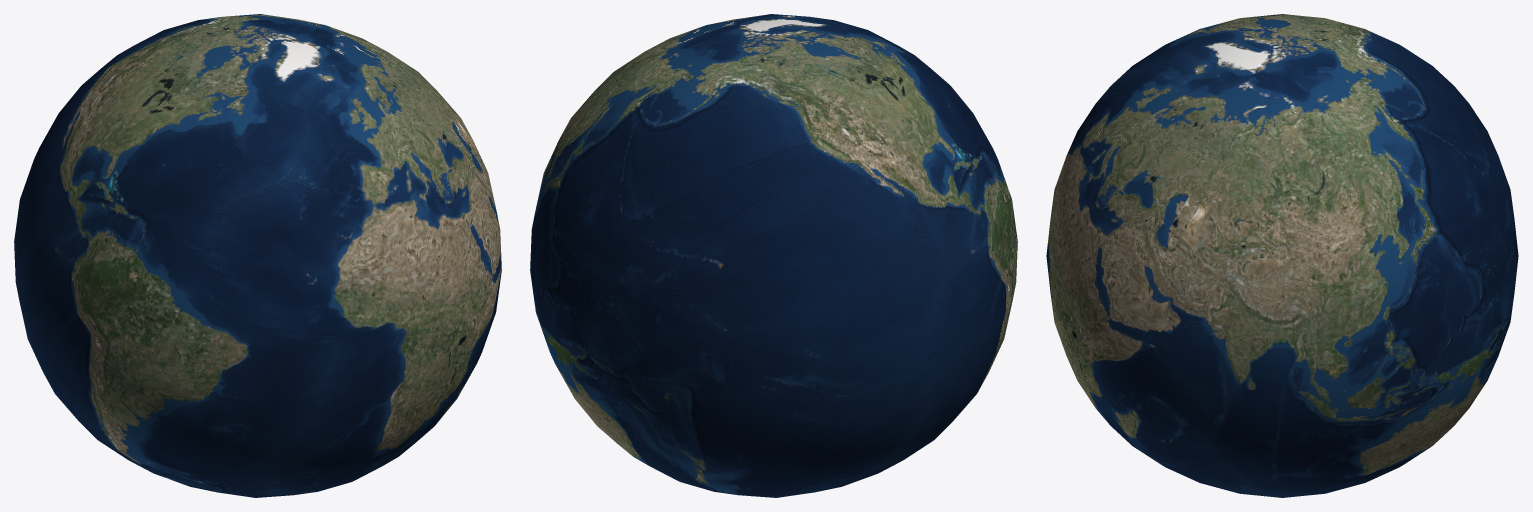
Rendered from Earth_2K.fbx.
3 views of the same model, side by side, from view 1: azimuth 30°, elevation 25°; view 2: azimuth 150°, elevation 25°; view 3: azimuth 270°, elevation 25° (orthographic).
Parts seen in each view (by area): view 1: Earth; view 2: Earth; view 3: Earth.
Boxes of the visible parts, x1,y1,x2,y2 form: Earth: [14, 14, 501, 497]; Earth: [530, 14, 1017, 497]; Earth: [1046, 14, 1518, 497].
Size of the model in its own units: 7534 by 7534 by 7513.
1 material, 1 textured.
